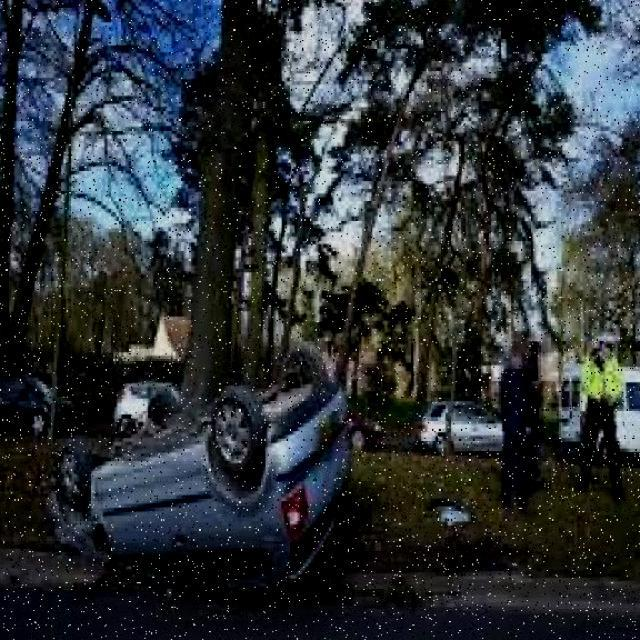accident: (31, 354, 357, 609)
